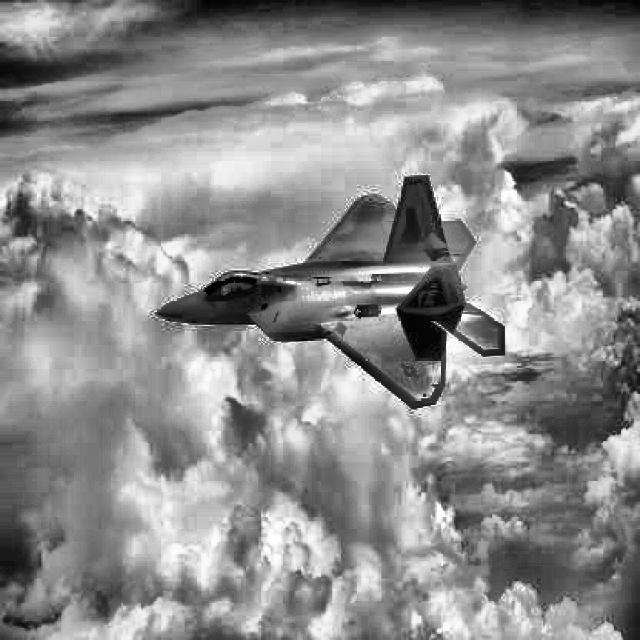F22: (154, 173, 506, 412)
